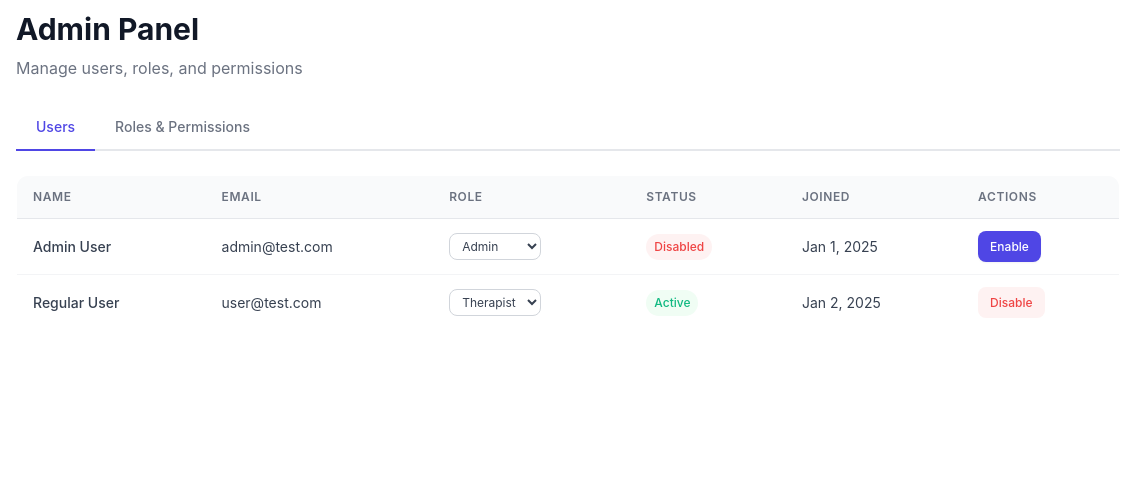
Test: AdminView › edits and saves role permissions
Click the button with class "tab" showing "Roles & Permissions".
click(183, 128)  # box top-left (95, 104), bottom-right (270, 151)
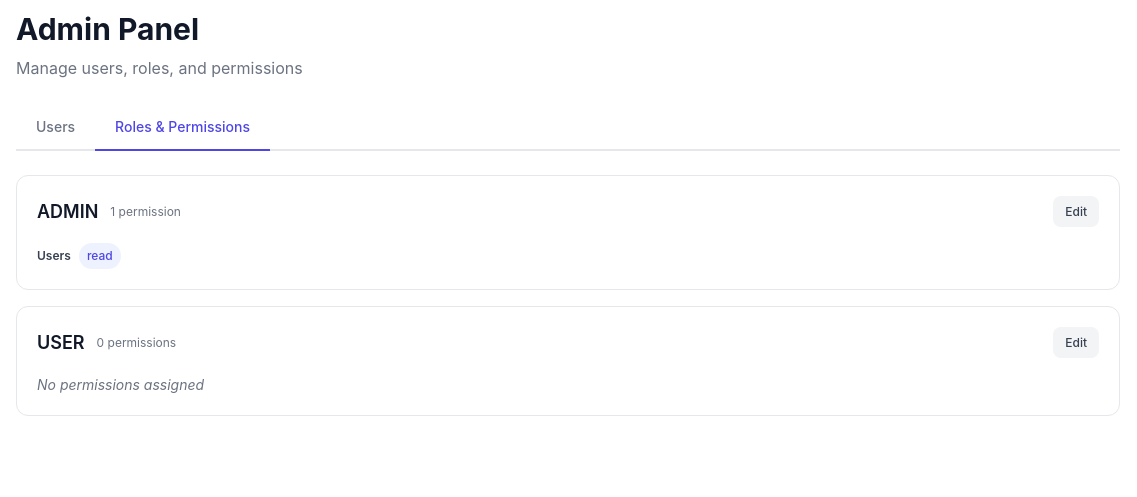
Click the button "Edit" in the row of "1 permission".
click(1076, 212)  # box top-left (1053, 196), bottom-right (1099, 227)
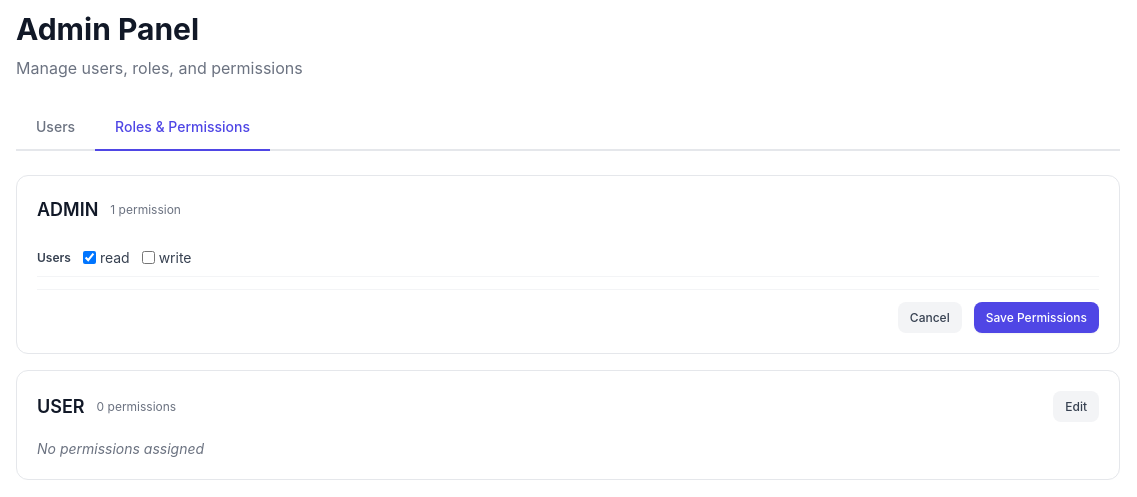
Click the checkbox labelled "write".
click(148, 258)  # box top-left (142, 251), bottom-right (155, 264)
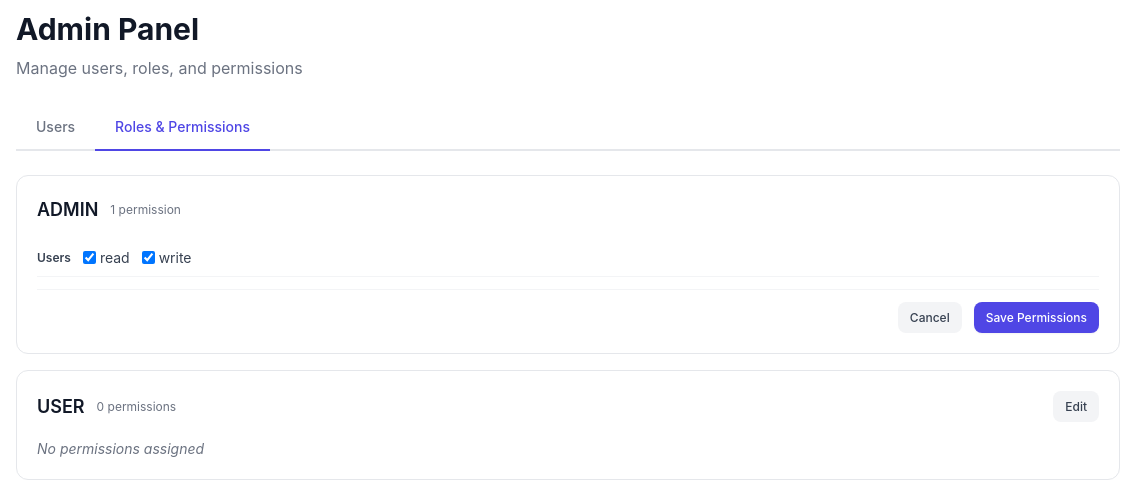
Click the button "Save Permissions".
click(1036, 318)  # box top-left (974, 302), bottom-right (1099, 333)
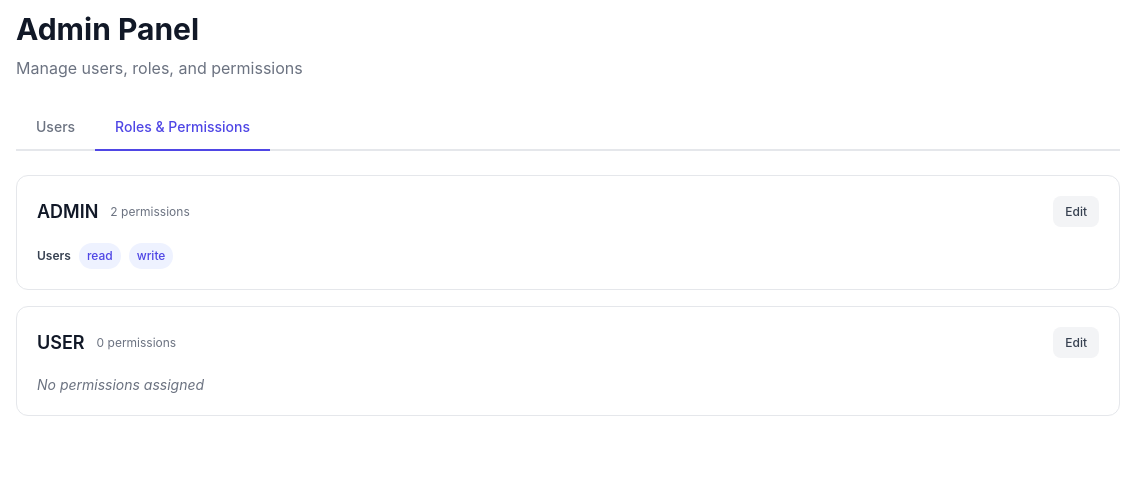
Expected: the text "2 permissions" is shown, top-left (110, 204), bottom-right (190, 218)
